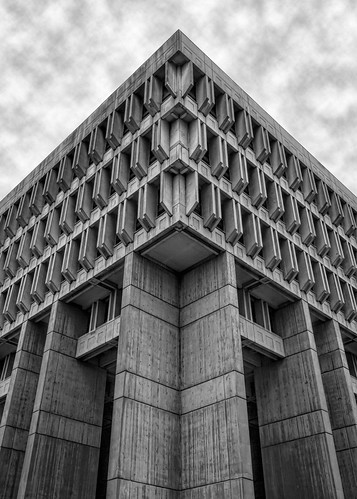building: (1, 76, 357, 499)
sky: (1, 1, 357, 145)
